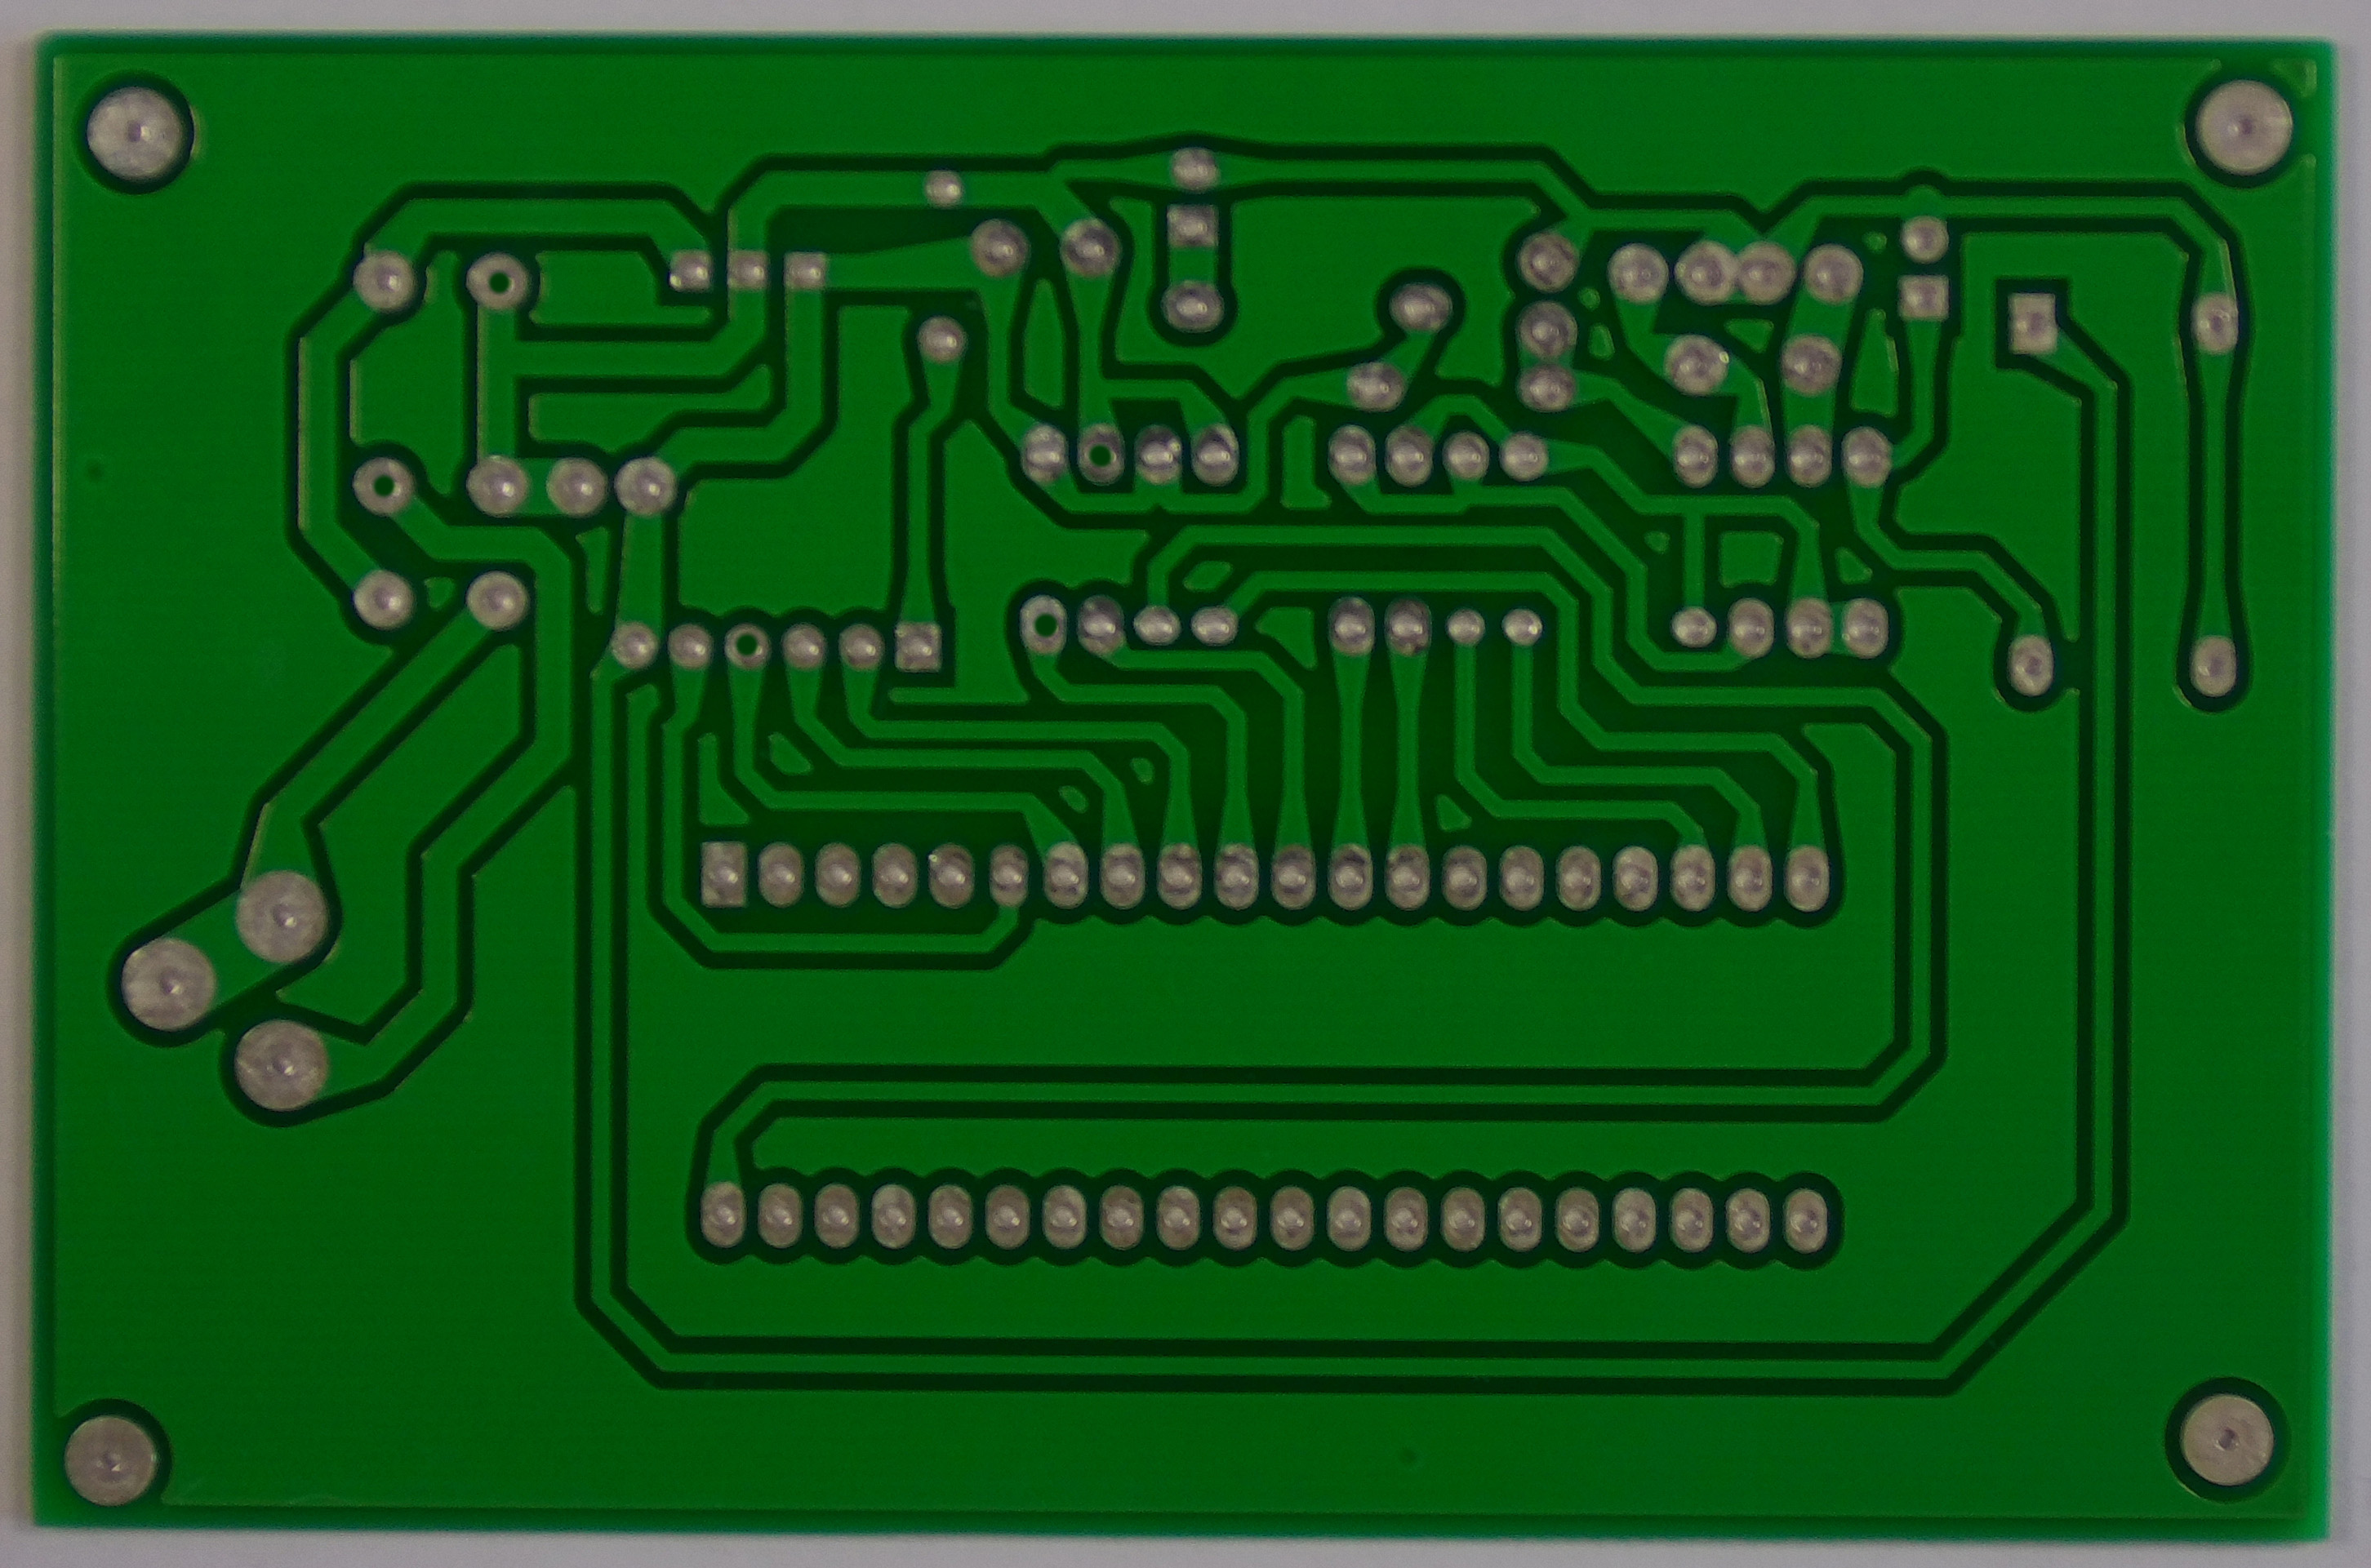missing_hole: (461, 244, 533, 318), (1065, 419, 1132, 490), (353, 450, 417, 522), (1013, 589, 1070, 659), (714, 619, 778, 678)
